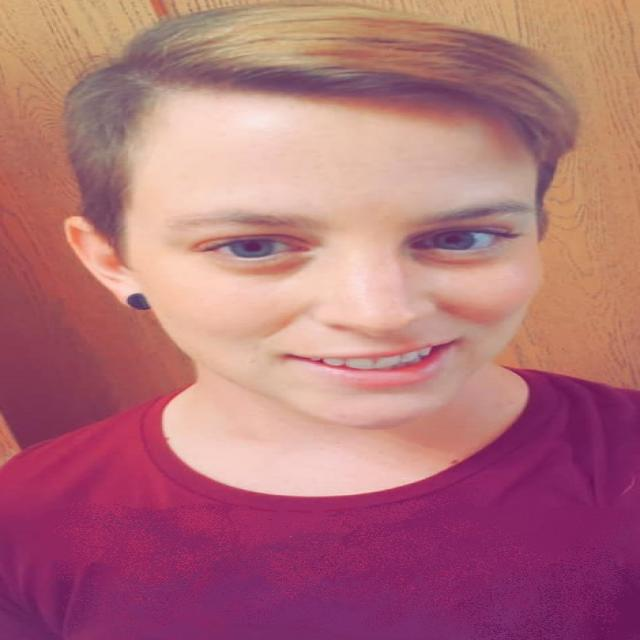earlobe: (63, 215, 153, 312)
